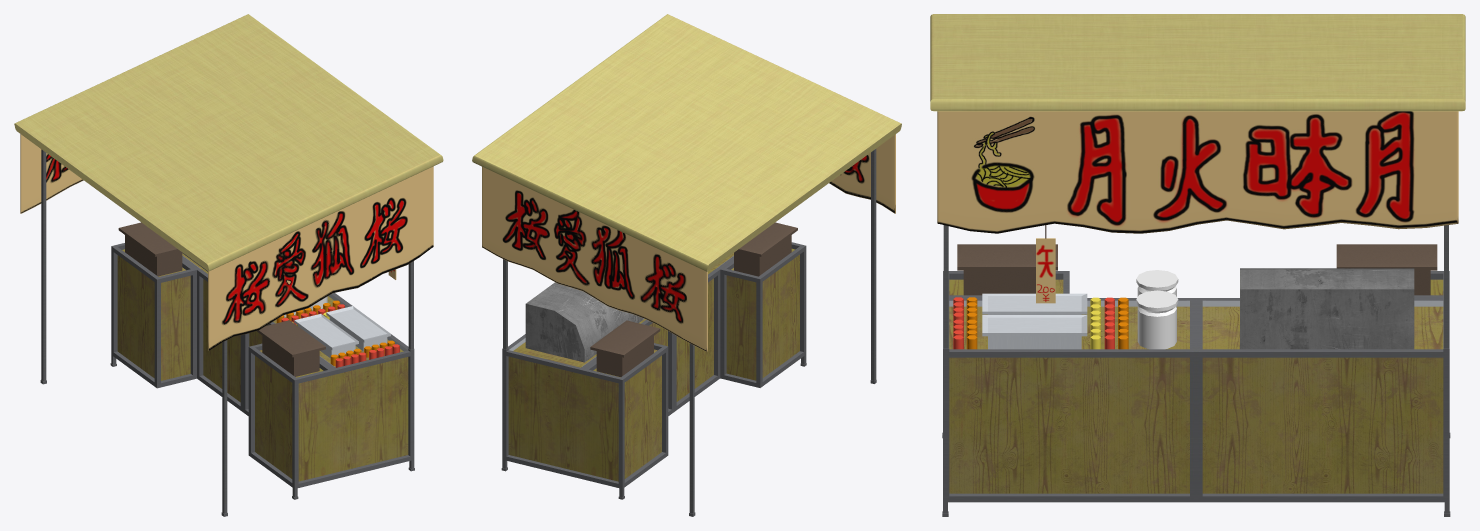
The model's file is barraca_macarrao.obj.
3 views of the same model, side by side, from view 1: azimuth 30°, elevation 25°; view 2: azimuth 150°, elevation 25°; view 3: azimuth 270°, elevation 25° (orthographic). The views are drawn at different scales.
Parts seen in each view (by area): view 1: defaultMaterial, defaultMaterial.001; view 2: defaultMaterial, defaultMaterial.001; view 3: defaultMaterial, defaultMaterial.001.
Part boxes in pixels (bbox=[...]): defaultMaterial: bbox=[14, 14, 443, 516]; defaultMaterial.001: bbox=[20, 134, 433, 350]; defaultMaterial: bbox=[472, 14, 901, 516]; defaultMaterial.001: bbox=[482, 134, 895, 351]; defaultMaterial: bbox=[930, 14, 1465, 516]; defaultMaterial.001: bbox=[937, 111, 1458, 233].
Bounding box in the file's own units: 1.4 × 1.78 × 2.
